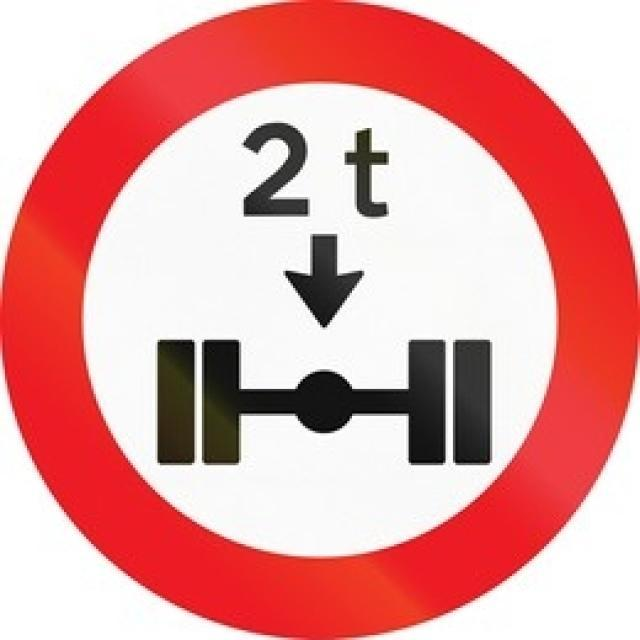axle load limit: (14, 10, 630, 627)
